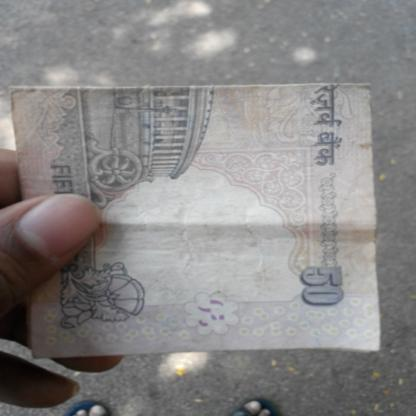Old50Back: (7, 82, 384, 359)
